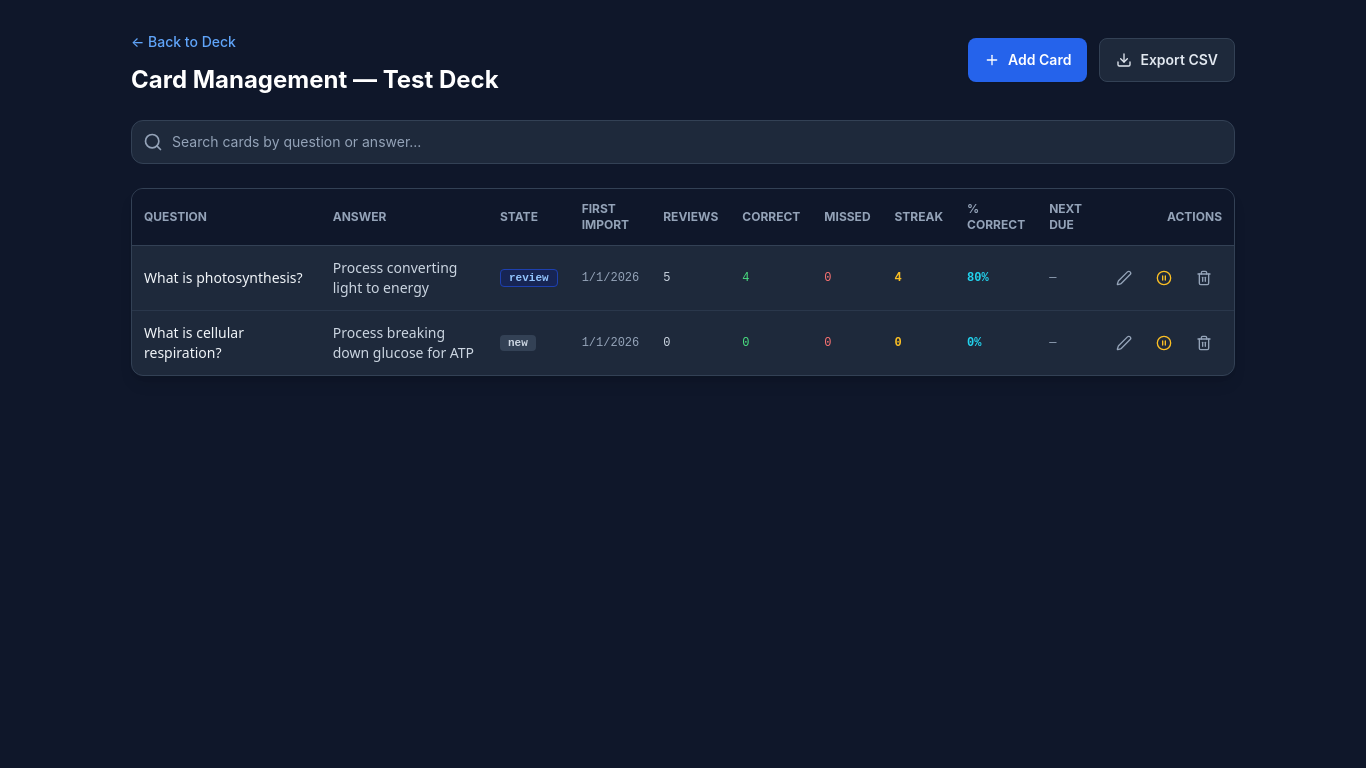
Test: CardManagementView (MGT-001..MGT-011) › MGT-011: Cancelling card deletion closes modal without deleting card
This screenshot has width=1366, height=768.
Step 1. Click the button named "delete card" in the row of "What is photosynthesis?" → x=1204, y=278, box [1186,260,1222,296]
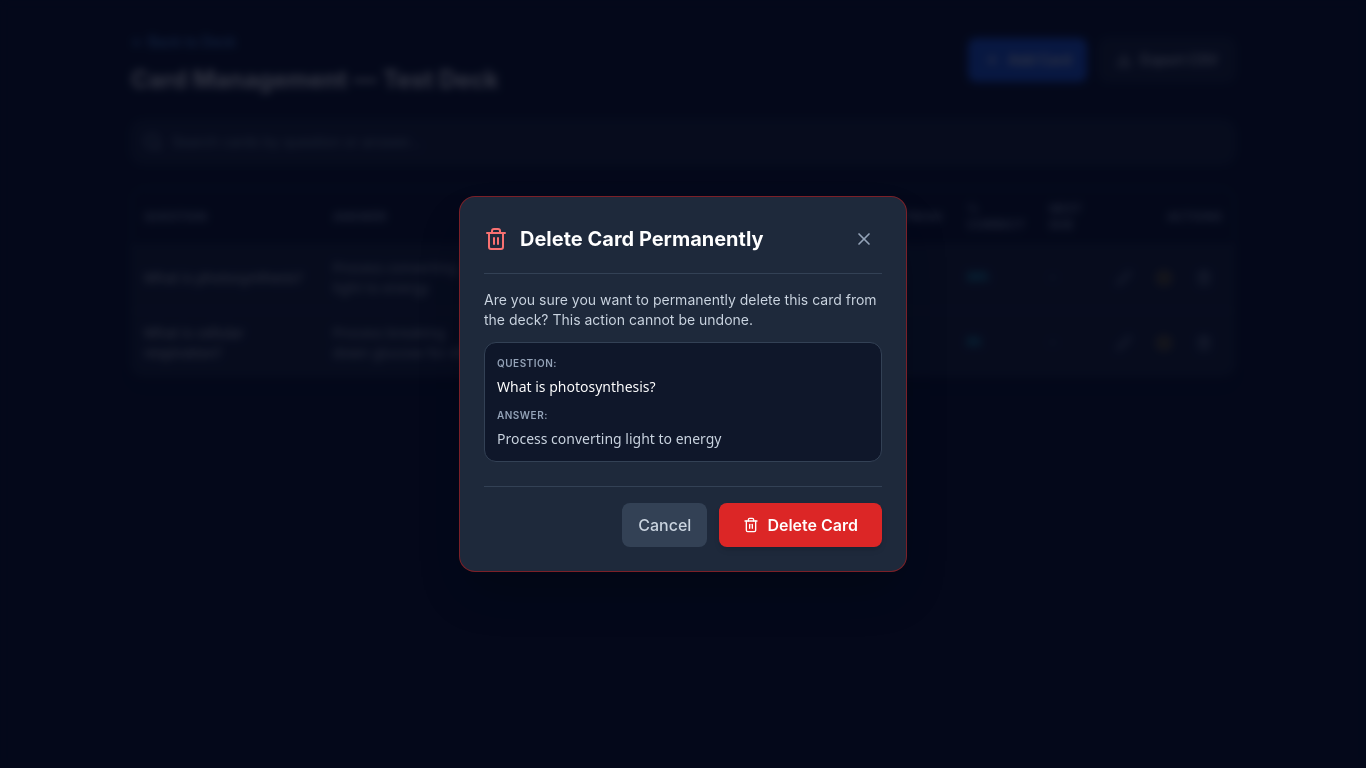
Step 2. Click the button named "cancel card deletion" → x=864, y=239, box [846,221,882,257]
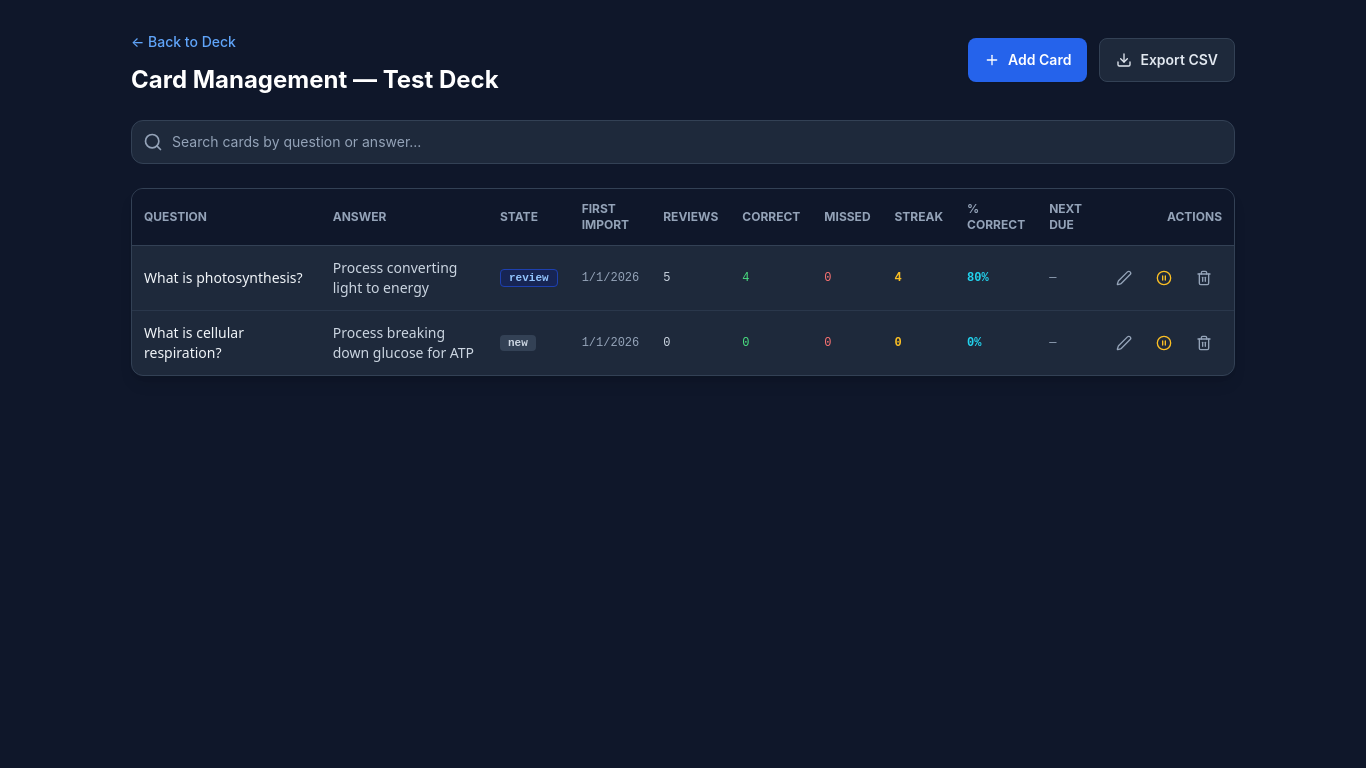
expect the heading "Delete Card Permanently" is gone: met
